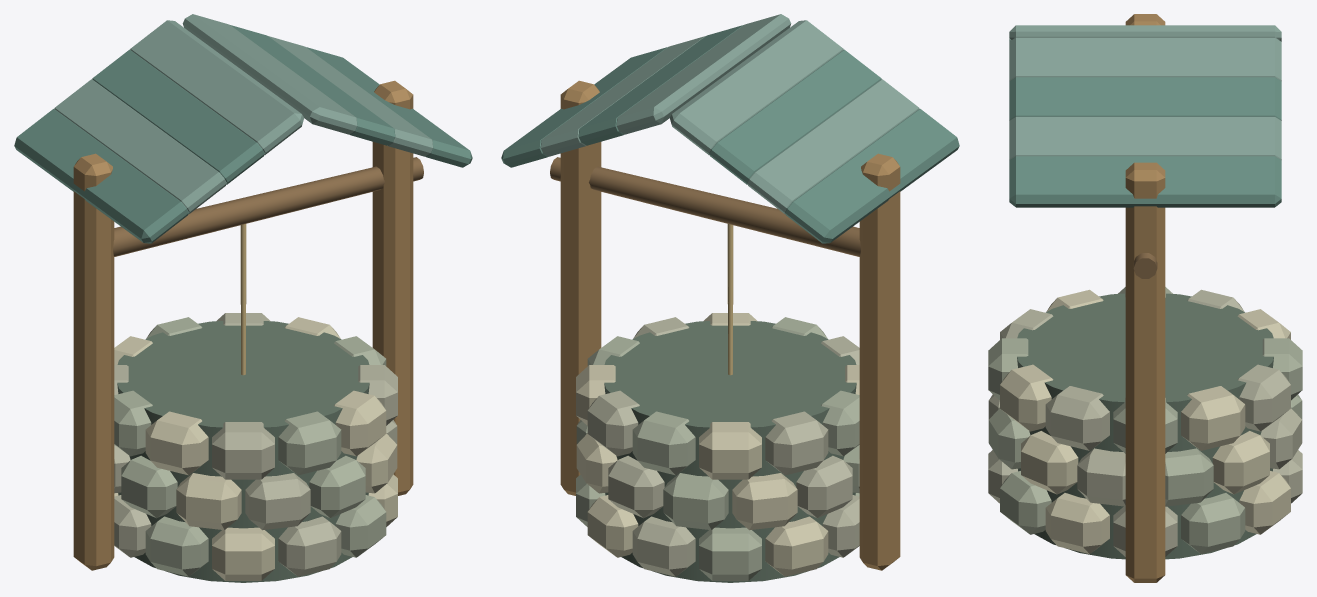
Rendered from garden_well.glb.
3 views of the same model, side by side, from view 1: azimuth 30°, elevation 25°; view 2: azimuth 150°, elevation 25°; view 3: azimuth 270°, elevation 25° (orthographic).
Visible parts, largest first — view 1: WellInterior, WellPost, _MeshInstance3D_1049, WellRoofTile, _MeshInstance3D_1052, _MeshInstance3D_1050, _MeshInstance3D_1051, Winch, _MeshInstance3D_1053, _MeshInstance3D_1040, _MeshInstance3D_1039, _MeshInstance3D_1041 (+22 smaller); view 2: WellInterior, WellPost, _MeshInstance3D_1049, WellRoofTile, _MeshInstance3D_1052, _MeshInstance3D_1050, _MeshInstance3D_1051, Winch, _MeshInstance3D_1053, _MeshInstance3D_1044, _MeshInstance3D_1043, _MeshInstance3D_1045 (+22 smaller); view 3: WellInterior, _MeshInstance3D_1049, _MeshInstance3D_1056, _MeshInstance3D_1053, _MeshInstance3D_1055, _MeshInstance3D_1054, _MeshInstance3D_1037, _MeshInstance3D_1047, WellRoofTile, _MeshInstance3D_1014, _MeshInstance3D_1024, _MeshInstance3D_1026 (+21 smaller).
Boxes of the visible parts, x1=… form: WellInterior: x1=117, y1=321, x2=369, y2=582; WellPost: x1=73, y1=153, x2=114, y2=570; _MeshInstance3D_1049: x1=372, y1=80, x2=413, y2=495; WellRoofTile: x1=130, y1=20, x2=303, y2=155; _MeshInstance3D_1052: x1=14, y1=109, x2=188, y2=243; _MeshInstance3D_1050: x1=92, y1=49, x2=264, y2=184; _MeshInstance3D_1051: x1=54, y1=79, x2=226, y2=214; Winch: x1=113, y1=157, x2=423, y2=256; _MeshInstance3D_1053: x1=182, y1=14, x2=357, y2=134; _MeshInstance3D_1040: x1=212, y1=422, x2=274, y2=479; _MeshInstance3D_1039: x1=278, y1=411, x2=341, y2=475; _MeshInstance3D_1041: x1=145, y1=411, x2=208, y2=475; WellInterior: x1=604, y1=321, x2=856, y2=582; WellPost: x1=859, y1=153, x2=900, y2=570; _MeshInstance3D_1049: x1=560, y1=80, x2=601, y2=495; WellRoofTile: x1=670, y1=20, x2=843, y2=155; _MeshInstance3D_1052: x1=785, y1=109, x2=959, y2=243; _MeshInstance3D_1050: x1=709, y1=49, x2=881, y2=184; _MeshInstance3D_1051: x1=747, y1=79, x2=919, y2=214; Winch: x1=550, y1=157, x2=860, y2=256; _MeshInstance3D_1053: x1=616, y1=14, x2=791, y2=134; _MeshInstance3D_1044: x1=699, y1=422, x2=761, y2=479; _MeshInstance3D_1043: x1=765, y1=411, x2=828, y2=475; _MeshInstance3D_1045: x1=632, y1=411, x2=695, y2=475; WellInterior: x1=1017, y1=293, x2=1273, y2=559; _MeshInstance3D_1049: x1=1125, y1=162, x2=1165, y2=582; _MeshInstance3D_1056: x1=1009, y1=156, x2=1281, y2=207; _MeshInstance3D_1053: x1=1009, y1=36, x2=1281, y2=80; _MeshInstance3D_1055: x1=1009, y1=116, x2=1281, y2=159; _MeshInstance3D_1054: x1=1009, y1=77, x2=1281, y2=120; _MeshInstance3D_1037: x1=1045, y1=386, x2=1109, y2=450; _MeshInstance3D_1047: x1=1181, y1=386, x2=1245, y2=450; WellRoofTile: x1=1009, y1=25, x2=1281, y2=40; _MeshInstance3D_1014: x1=1045, y1=493, x2=1109, y2=553; _MeshInstance3D_1024: x1=1181, y1=493, x2=1245, y2=553; _MeshInstance3D_1026: x1=1021, y1=431, x2=1078, y2=494.
Bounding box in the file's own units: 1.62 × 2.11 × 1.27.
